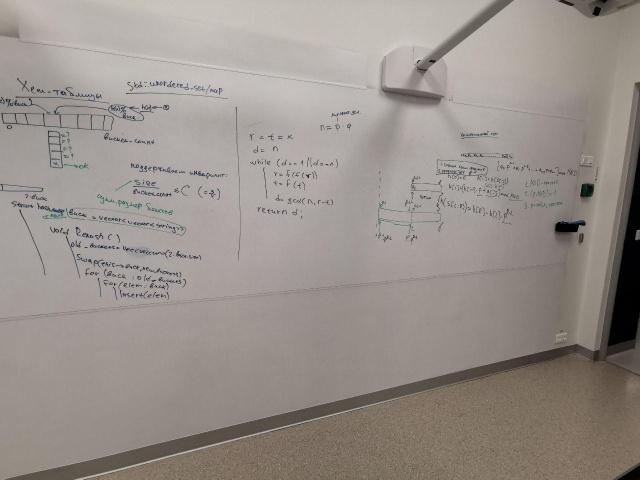Whiteboard: (0, 34, 586, 324)
